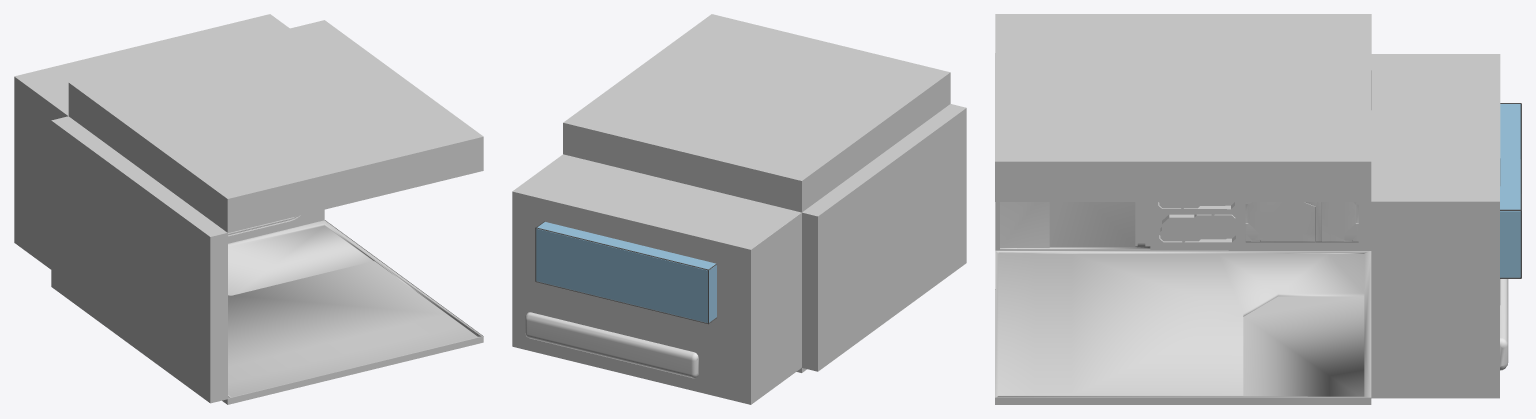
3 renders of one model, left to right at view 1: azimuth 30°, elevation 25°; view 2: azimuth 150°, elevation 25°; view 3: azimuth 270°, elevation 25°, orthographic. The views are drawn at different scales.
Parts seen in each view (by area): view 1: Ceiling, Wall, Floor; view 2: Wall, Ceiling, Window, Bed.frozen; view 3: Ceiling, Wall, Floor, Window, Bed.frozen.
Boxes of the visible parts, bbox=[...] form: Ceiling: bbox=[68, 20, 483, 232]; Wall: bbox=[14, 14, 324, 403]; Floor: bbox=[222, 220, 483, 404]; Wall: bbox=[512, 104, 966, 404]; Ceiling: bbox=[563, 14, 950, 212]; Window: bbox=[535, 221, 717, 324]; Bed.frozen: bbox=[525, 312, 698, 378]; Ceiling: bbox=[995, 14, 1371, 201]; Wall: bbox=[995, 54, 1500, 398]; Floor: bbox=[995, 250, 1371, 404]; Window: bbox=[1500, 103, 1521, 278]; Bed.frozen: bbox=[1500, 279, 1508, 370].
Bounding box in the file's own units: 623 × 448 × 880.
